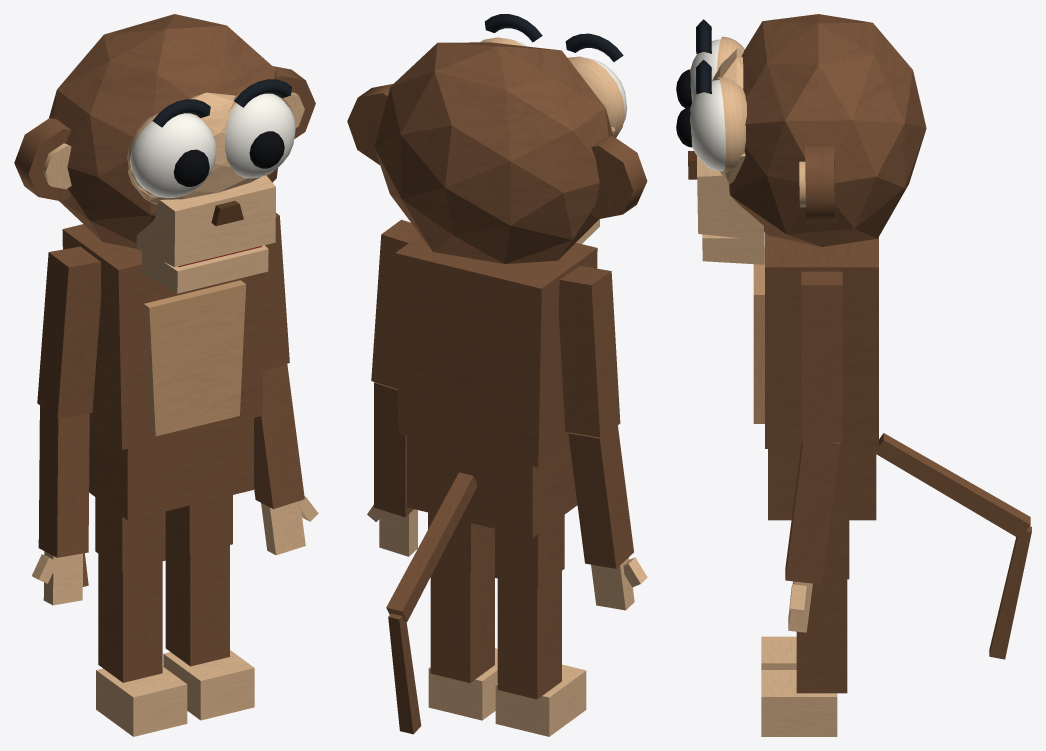
The model's file is monkey.glb.
3 views of the same model, side by side, from view 1: azimuth 30°, elevation 25°; view 2: azimuth 150°, elevation 25°; view 3: azimuth 270°, elevation 25° (orthographic). The views are drawn at different scales.
Visible parts, largest first — view 1: head, torso, hips, shoulderR, kneeL, kneeR, elbowR, elbowL, footR, footL, hipR, earR (+6 smaller); view 2: head, torso, hips, shoulderR, kneeR, kneeL, elbowR, tail, footR, elbowL, shoulderL, hipR (+7 smaller); view 3: head, torso, shoulderL, elbowL, kneeL, hips, footL, tail, earL, tail2, jaw, hipL (+2 smaller).
Part boxes in pixels (left/top/right/bottom): head: left=49, top=14, right=295, bottom=266; torso: left=62, top=224, right=265, bottom=449; hips: left=89, top=418, right=253, bottom=520; shoulderR: left=37, top=246, right=101, bottom=418; kneeL: left=165, top=537, right=229, bottom=666; kneeR: left=98, top=554, right=162, bottom=682; elbowR: left=38, top=405, right=89, bottom=557; elbowL: left=254, top=364, right=304, bottom=508; footR: left=96, top=666, right=187, bottom=736; footL: left=163, top=650, right=254, bottom=720; hipR: left=95, top=497, right=165, bottom=570; earR: left=14, top=118, right=71, bottom=201; head: left=374, top=14, right=627, bottom=263; torso: left=395, top=235, right=597, bottom=467; hips: left=407, top=436, right=577, bottom=537; shoulderR: left=558, top=265, right=620, bottom=437; kneeR: left=497, top=571, right=561, bottom=699; kneeL: left=430, top=554, right=494, bottom=682; elbowR: left=568, top=425, right=633, bottom=568; tail: left=386, top=472, right=476, bottom=621; footR: left=495, top=664, right=586, bottom=736; elbowL: left=374, top=382, right=413, bottom=517; shoulderL: left=371, top=219, right=419, bottom=389; hipR: left=495, top=515, right=564, bottom=588; head: left=676, top=14, right=926, bottom=246; torso: left=753, top=233, right=878, bottom=448; shoulderL: left=801, top=271, right=842, bottom=442; elbowL: left=785, top=442, right=840, bottom=584; kneeL: left=796, top=579, right=847, bottom=693; hips: left=768, top=449, right=876, bottom=520; footL: left=761, top=670, right=837, bottom=736; tail: left=876, top=433, right=1030, bottom=539; earL: left=799, top=146, right=835, bottom=222; tail2: left=989, top=526, right=1031, bottom=659; jaw: left=702, top=232, right=764, bottom=264; hipL: left=823, top=520, right=849, bottom=579.
Size of the model in its own units: 0.533 by 1.19 by 0.5619.
18 materials, 15 textured.
